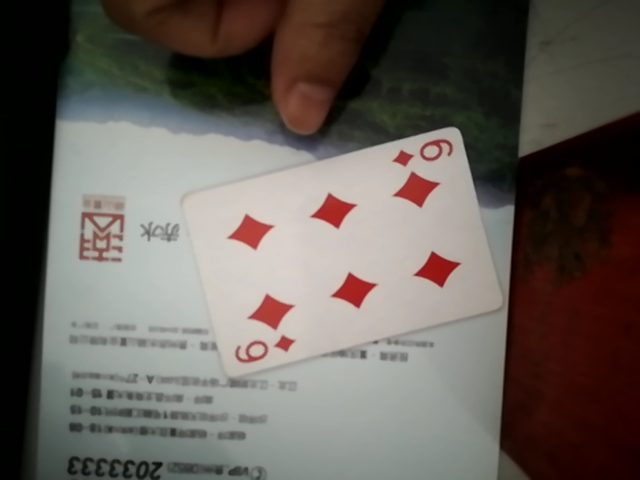fk 6: (172, 127, 514, 379)
